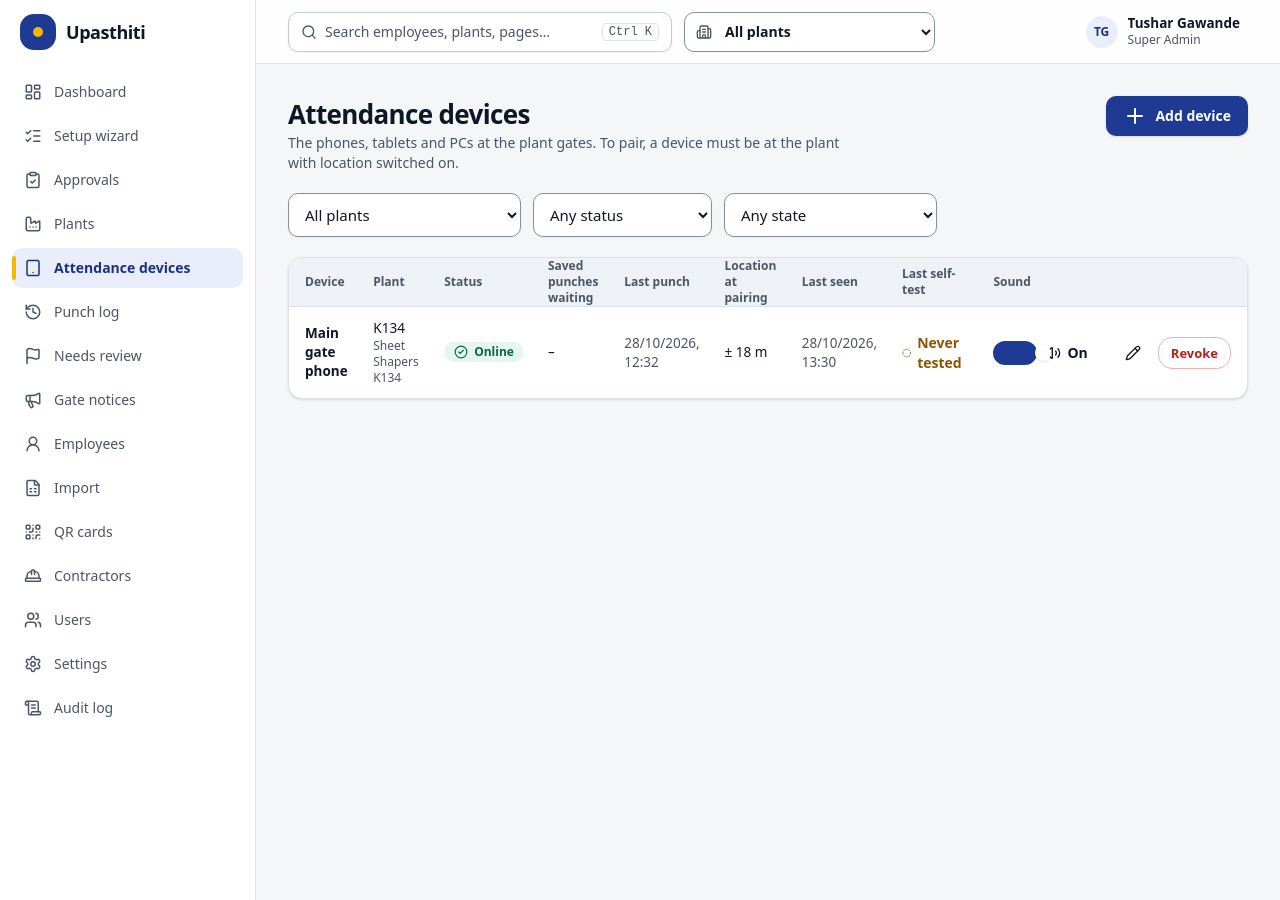
renaming and switching off a device › shows the server's answer when switching off fails
Click the button "Revoke" at (1194, 353), box [1158, 337, 1231, 369]
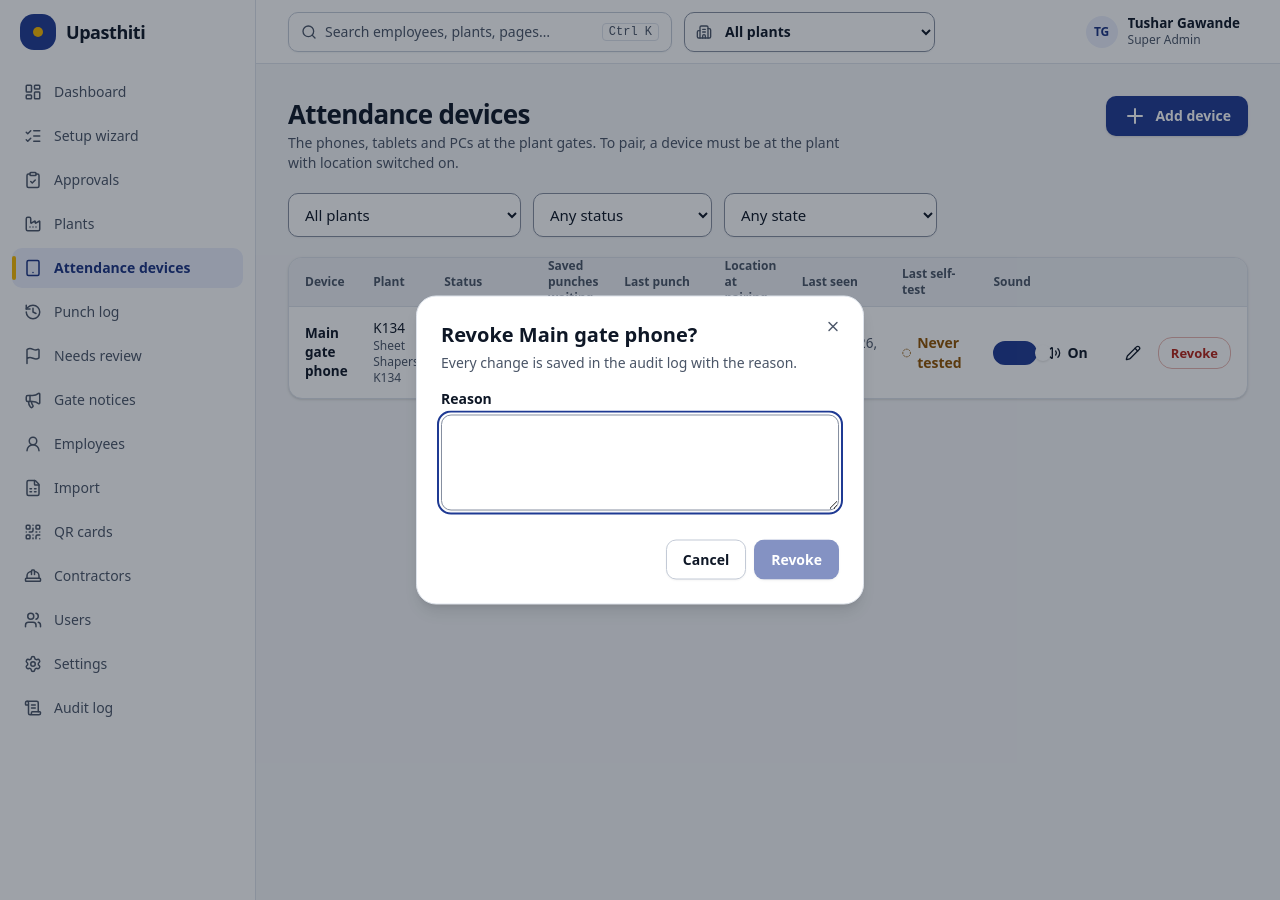
Type "Phone lost" into the text box labelled "Reason" at (640, 462), box [441, 414, 839, 510]
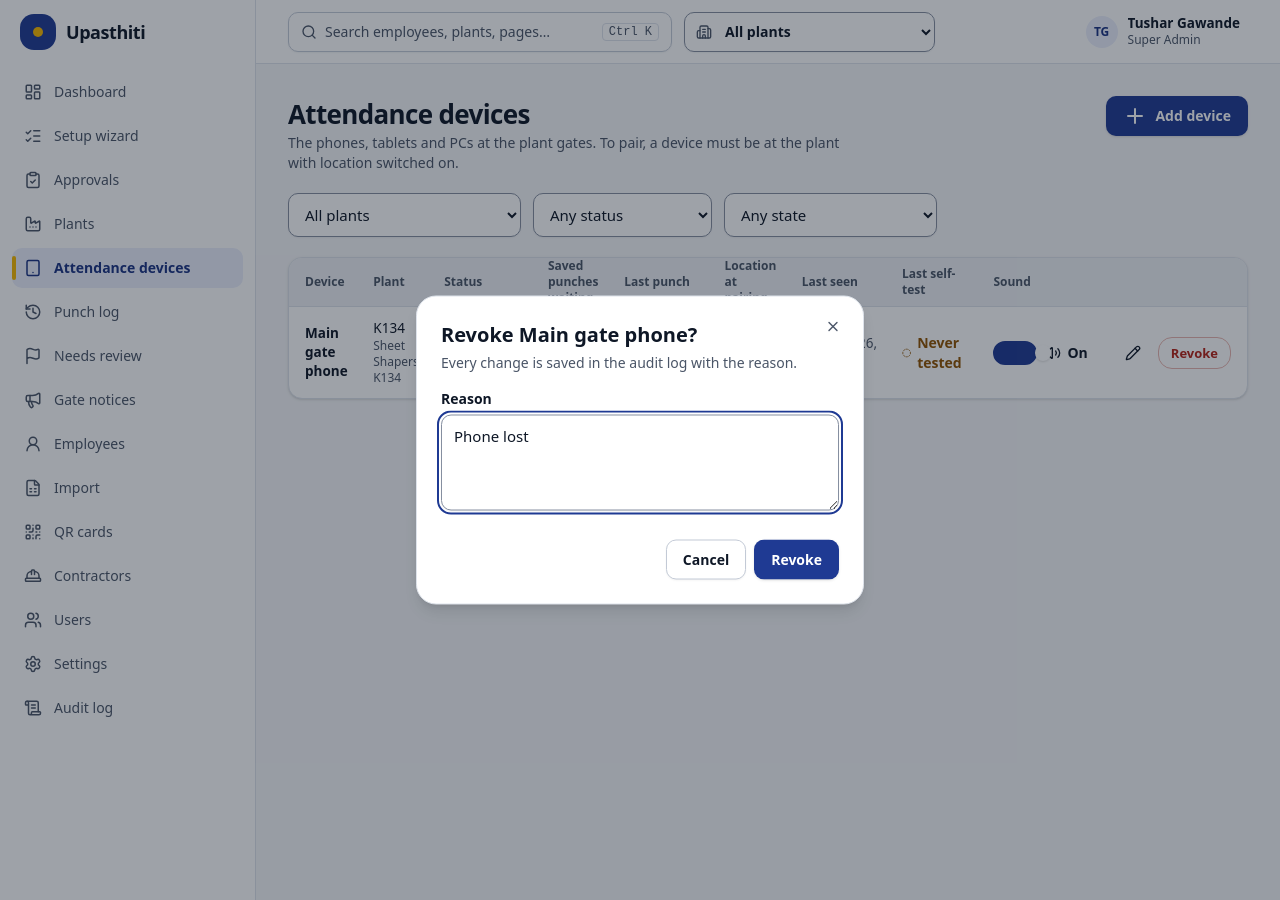
Click the button "Revoke" at (797, 560), box [754, 540, 839, 580]
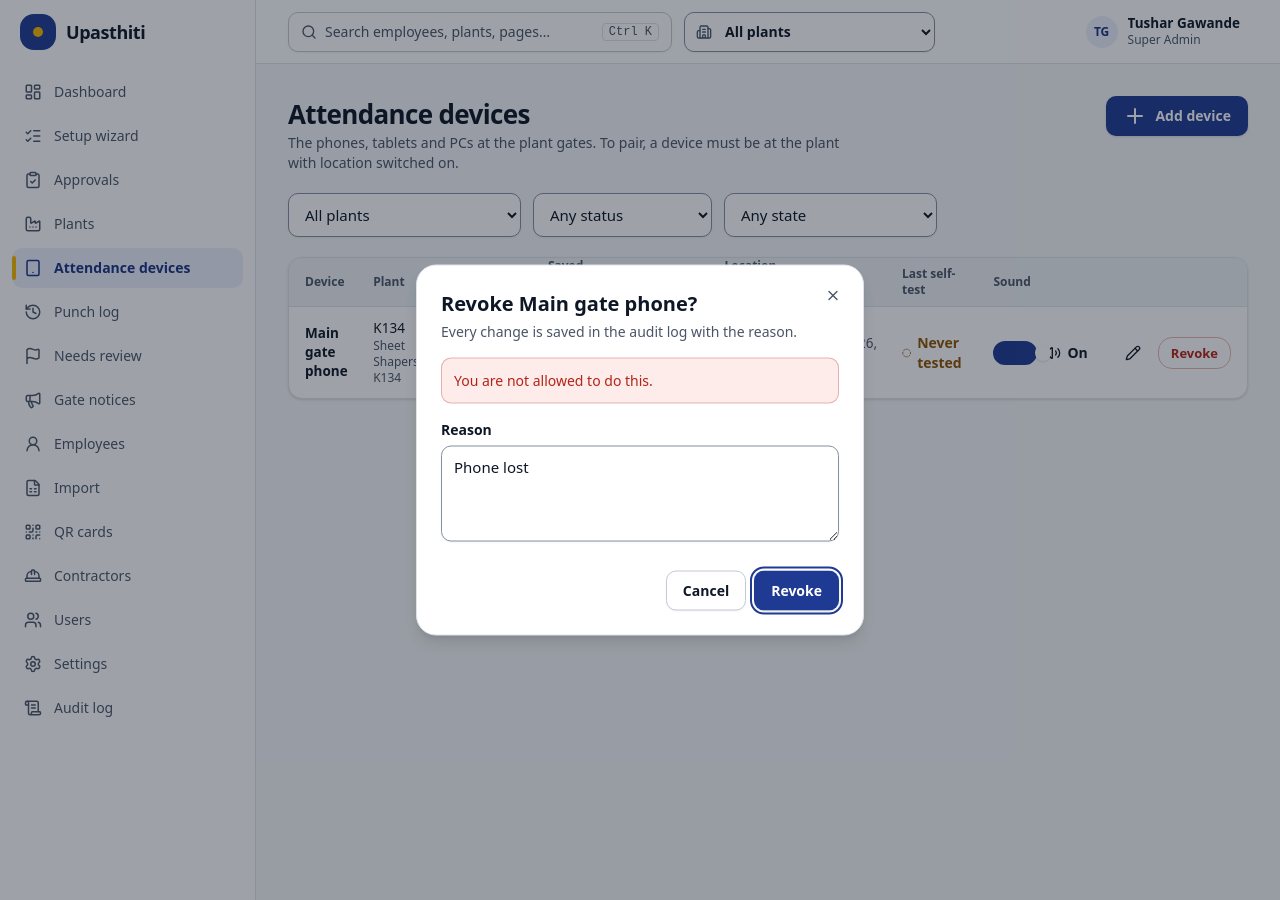
Expected: the text "You are not allowed to do this." is shown, [454, 370, 653, 390]
